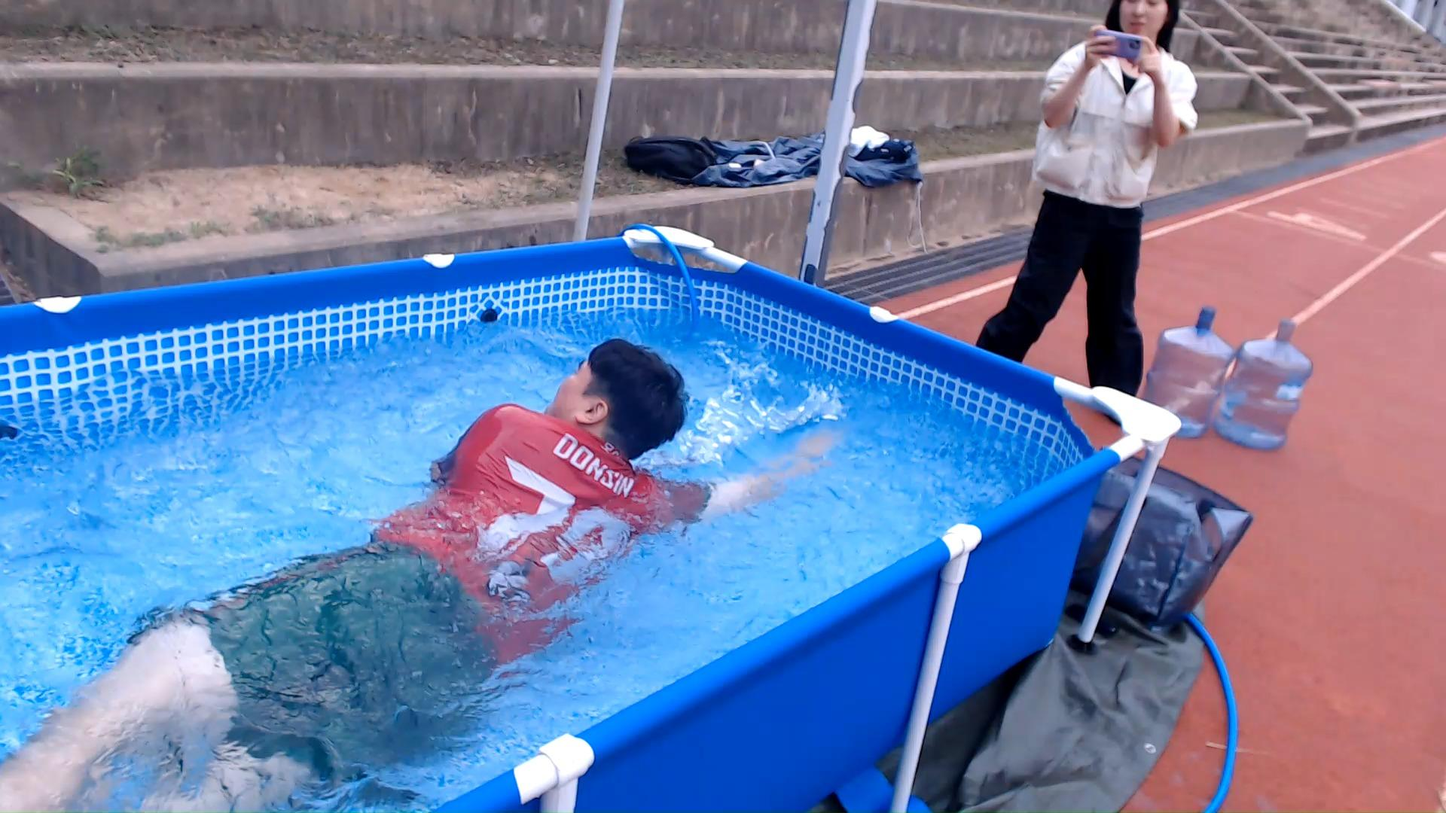Swimming: (0, 286, 907, 813)
